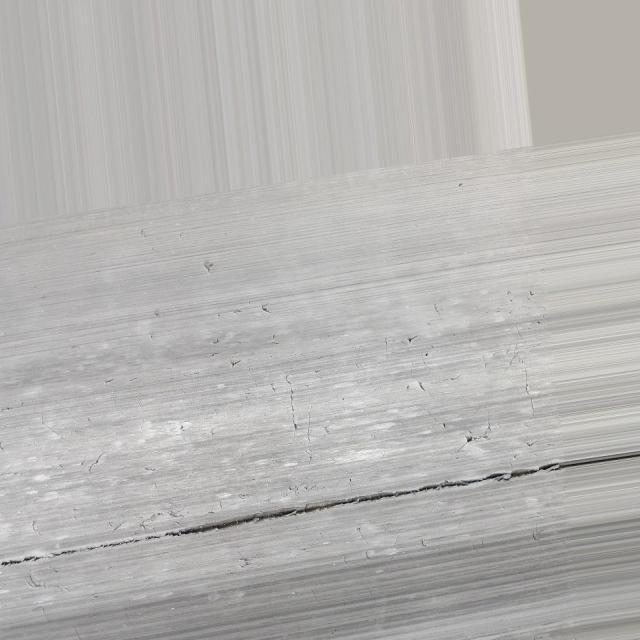Puncture: (260, 302, 274, 318), (463, 434, 476, 446), (228, 360, 242, 368), (407, 337, 416, 345), (454, 181, 464, 187)
Tear: (0, 462, 566, 568)
